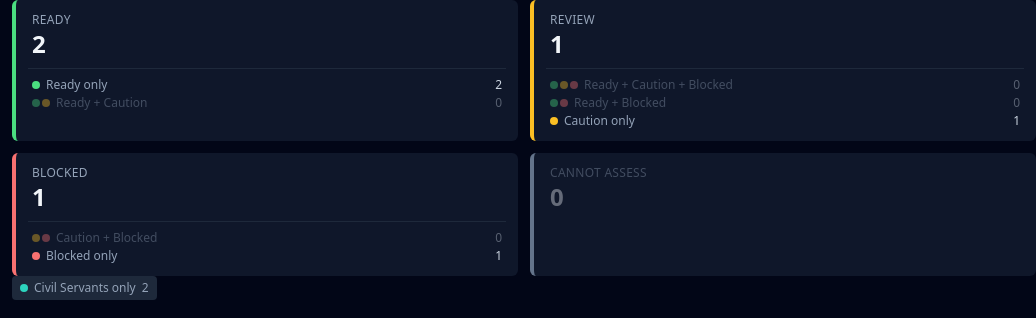
Scenario: the readiness tiles on /contributors › should count everybody until the toggle is on, and only the civil servants once it is
Expected: the button with aria-label "Ready: 2" is shown, [28,12,506,60]
Expected: the button with aria-label "Ready only: 2" is shown, [28,77,506,93]
Click the button "Civil Servants only 2".
click(84, 288)  # box [12,276,157,300]
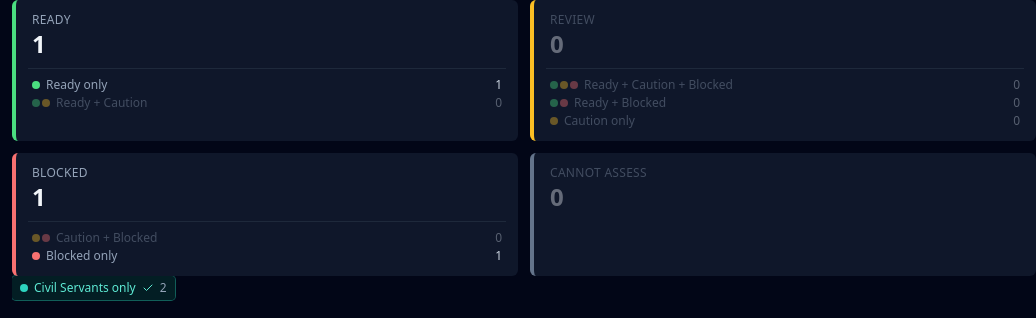
Expected: the button with aria-label "Ready: 1" is shown, [28,12,506,60]
Expected: the button with aria-label "Ready only: 1" is shown, [28,77,506,93]
Expected: the button with aria-label "Review: 0" is shown, [546,12,1024,60]
